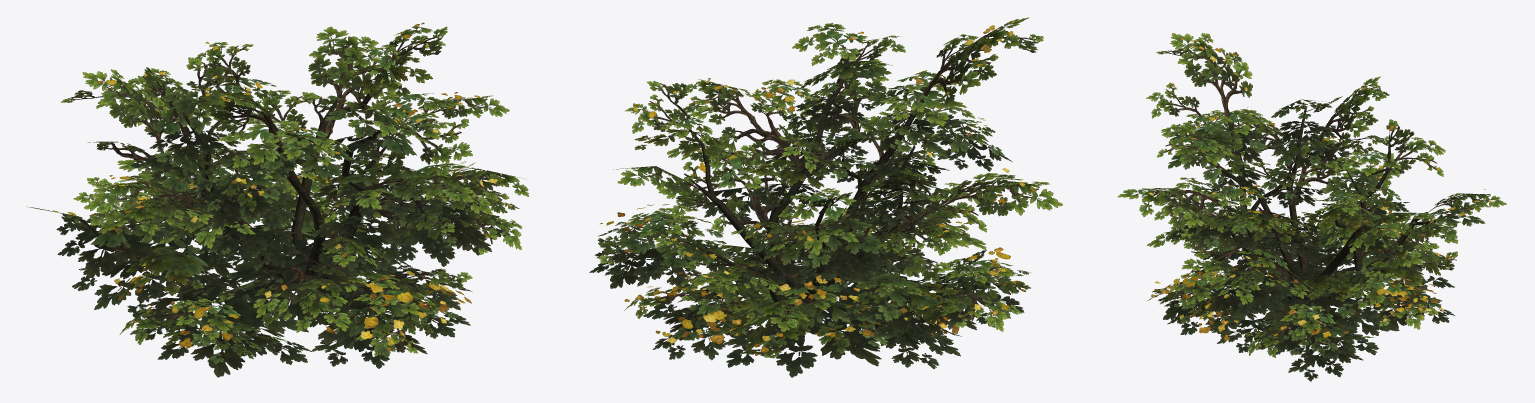
The model's file is gonggong_hua03.FBX.
3 renders of one model, left to right at view 1: azimuth 30°, elevation 25°; view 2: azimuth 150°, elevation 25°; view 3: azimuth 270°, elevation 25°, orthographic. The views are drawn at different scales.
Visible parts, largest first — view 1: DrawCall_0089; view 2: DrawCall_0089; view 3: DrawCall_0089.
Part boxes in pixels (x1,y1,x2,y2): DrawCall_0089: (27,22,528,377); DrawCall_0089: (589,17,1062,377); DrawCall_0089: (1118,33,1506,381).
Size of the model in its own units: 360 by 232 by 355.
